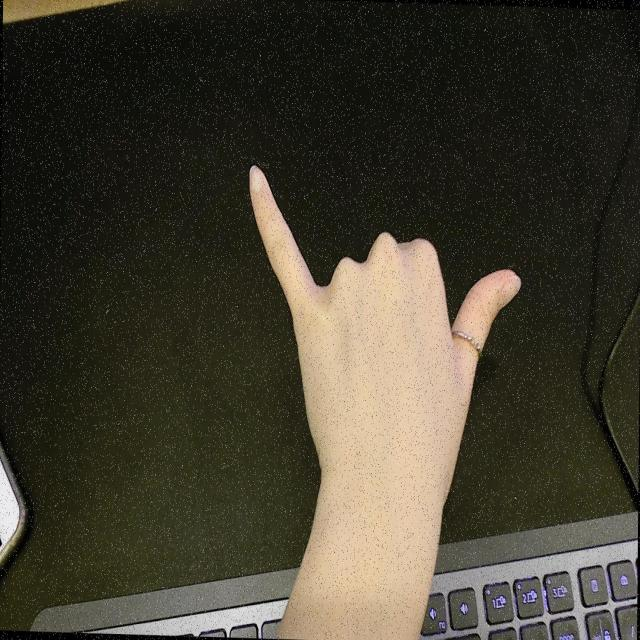Y: (244, 160, 526, 510)
